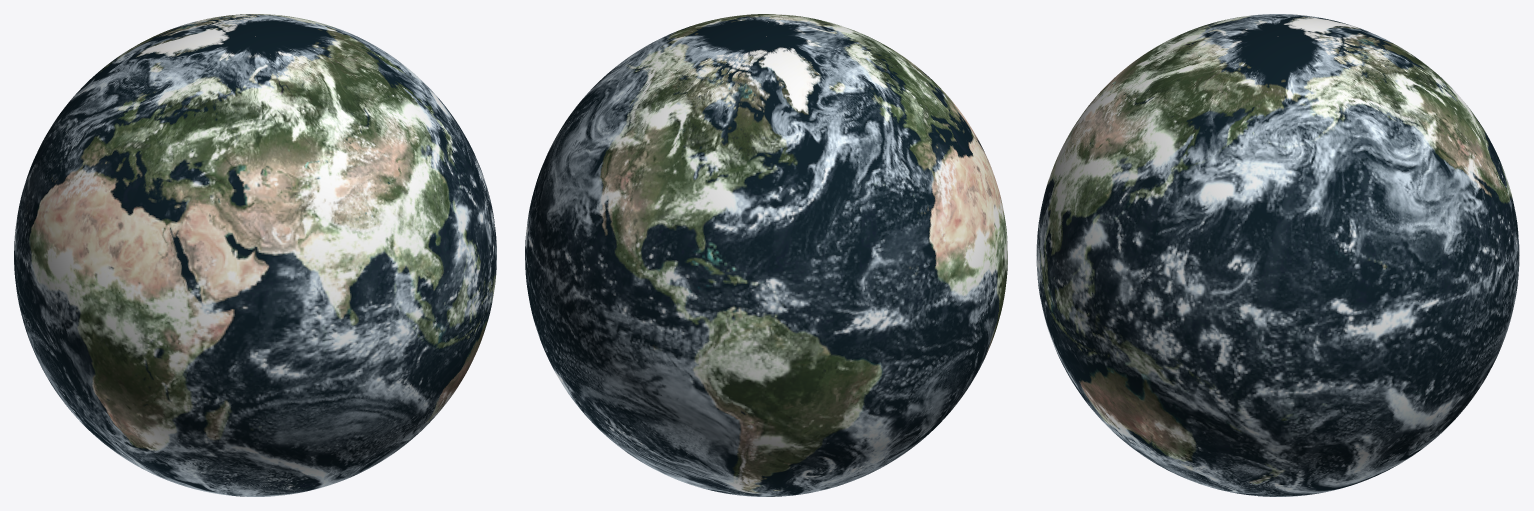
File: earthdunya.glb
3 renders of one model, left to right at view 1: azimuth 30°, elevation 25°; view 2: azimuth 150°, elevation 25°; view 3: azimuth 270°, elevation 25°, orthographic.
Visible parts, largest first — view 1: node_id91_0; view 2: node_id91_0; view 3: node_id91_0.
Boxes of the visible parts, x1=… form: node_id91_0: x1=14, y1=14, x2=496, y2=496; node_id91_0: x1=525, y1=14, x2=1007, y2=496; node_id91_0: x1=1036, y1=14, x2=1519, y2=496.
Size of the model in its own units: 2.3 by 2.3 by 2.3.
1 material, 1 textured.
